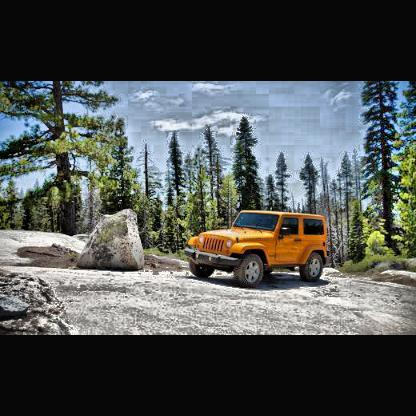Jeep Wrangler SUV 2012: (177, 203, 333, 291)
